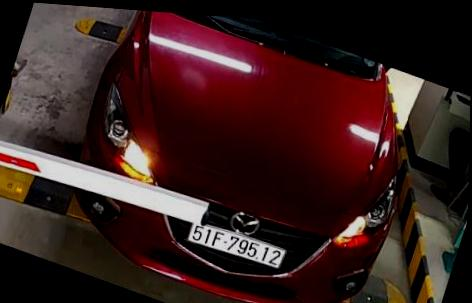License_Plate: (185, 221, 290, 275)
